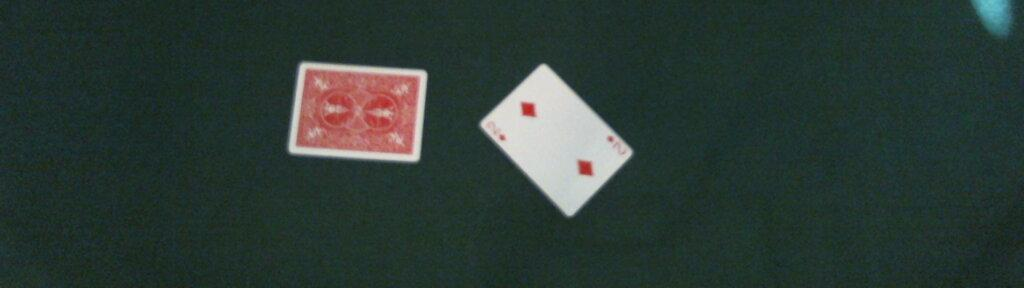back: (285, 60, 429, 161)
two: (479, 63, 634, 218)
